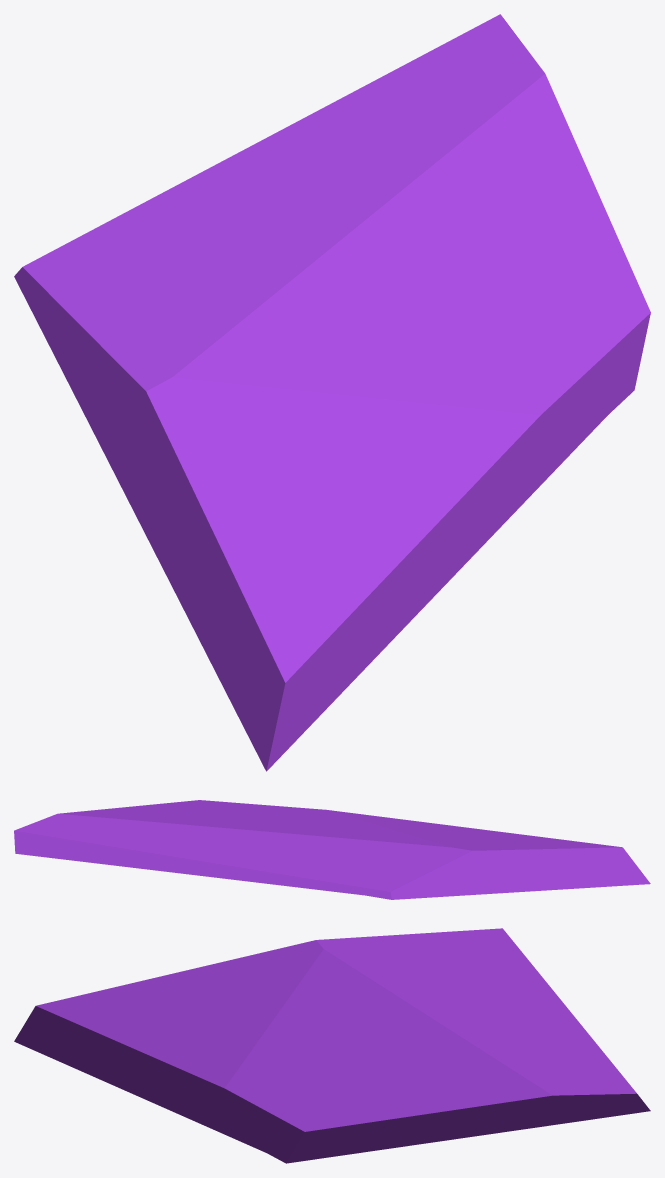
The model's file is Glass_100_3_16_chunks.fbx.
3 views of the same model, one above another, from view 1: azimuth 30°, elevation 25°; view 2: azimuth 150°, elevation 25°; view 3: azimuth 270°, elevation 25° (orthographic). The views are drawn at different scales.
Visible parts, largest first — view 1: Glass_100_3_16_0, Glass_100_3_16_3, Glass_100_3_16_2; view 2: Glass_100_3_16_0, Glass_100_3_16_3, Glass_100_3_16_2; view 3: Glass_100_3_16_0, Glass_100_3_16_3, Glass_100_3_16_2, Glass_100_3_16_1.
Part boxes in pixels (box(x1,y1,x2,y2)): Glass_100_3_16_0: box(14, 226, 407, 771); Glass_100_3_16_3: box(99, 14, 601, 303); Glass_100_3_16_2: box(355, 201, 650, 624); Glass_100_3_16_0: box(318, 826, 650, 899); Glass_100_3_16_3: box(14, 806, 330, 890); Glass_100_3_16_2: box(134, 800, 479, 829); Glass_100_3_16_0: box(14, 928, 523, 1087); Glass_100_3_16_3: box(363, 955, 650, 1127); Glass_100_3_16_2: box(118, 1020, 430, 1163); Glass_100_3_16_1: box(415, 1128, 532, 1144).
Bounding box in the file's own units: 458 × 165 × 534.
